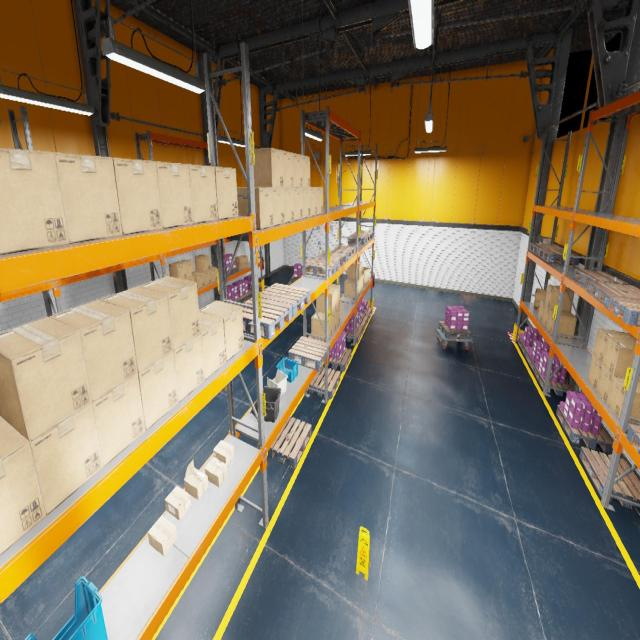box: (0, 317, 92, 442), (49, 300, 137, 402), (30, 402, 103, 515), (0, 147, 69, 255), (0, 416, 46, 556), (99, 287, 173, 372), (54, 152, 122, 244), (92, 373, 146, 466), (138, 276, 201, 350), (112, 158, 163, 235), (138, 350, 178, 430), (199, 300, 244, 361), (156, 161, 193, 228), (173, 333, 205, 402), (199, 312, 226, 379), (188, 164, 218, 224), (602, 336, 640, 382), (607, 376, 640, 425), (592, 328, 636, 364), (237, 187, 273, 229), (214, 167, 238, 219), (148, 515, 177, 556), (254, 148, 283, 187), (184, 459, 208, 500), (165, 486, 191, 520), (546, 310, 577, 338), (545, 284, 574, 312), (205, 457, 228, 487), (542, 304, 569, 328), (596, 365, 612, 404), (311, 312, 332, 341), (587, 355, 602, 391), (316, 288, 336, 314), (213, 440, 234, 464), (272, 188, 284, 226), (283, 151, 293, 187), (284, 188, 294, 223), (177, 259, 194, 278), (533, 288, 547, 311), (293, 153, 302, 187), (169, 261, 186, 279), (194, 254, 210, 272), (344, 279, 359, 298), (347, 261, 362, 280), (329, 284, 340, 309), (302, 154, 310, 187), (294, 188, 302, 220), (347, 278, 361, 294), (303, 187, 310, 218), (235, 254, 248, 270), (198, 270, 211, 286), (310, 187, 317, 216), (194, 270, 204, 288), (317, 187, 323, 214), (538, 300, 545, 322), (362, 266, 370, 284), (210, 266, 217, 283), (332, 310, 336, 334), (336, 305, 340, 328), (187, 275, 194, 281), (361, 274, 363, 291)
pallets: (579, 446, 640, 509), (556, 405, 613, 454), (268, 416, 311, 469), (242, 298, 292, 340), (261, 283, 310, 317), (586, 280, 640, 306), (289, 336, 330, 370), (534, 366, 574, 396), (605, 294, 640, 326), (309, 366, 340, 400), (572, 269, 629, 287), (302, 258, 339, 278), (538, 248, 580, 265), (324, 348, 352, 371), (439, 322, 470, 338), (529, 242, 564, 255), (316, 252, 346, 267), (626, 424, 640, 455), (332, 245, 354, 260), (346, 325, 362, 343), (62, 271, 94, 279), (525, 349, 536, 372), (348, 233, 369, 245), (518, 336, 530, 356), (95, 263, 124, 270), (354, 231, 374, 240), (238, 291, 252, 303), (358, 316, 368, 331), (248, 286, 261, 296), (363, 307, 372, 321), (225, 267, 238, 276), (291, 274, 300, 282), (234, 298, 241, 303)
